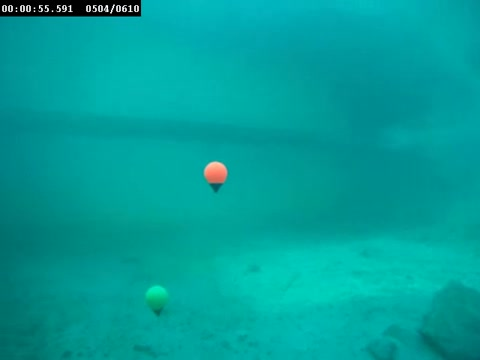buoy_green: (144, 285, 168, 313)
buoy_red: (200, 158, 228, 195)
